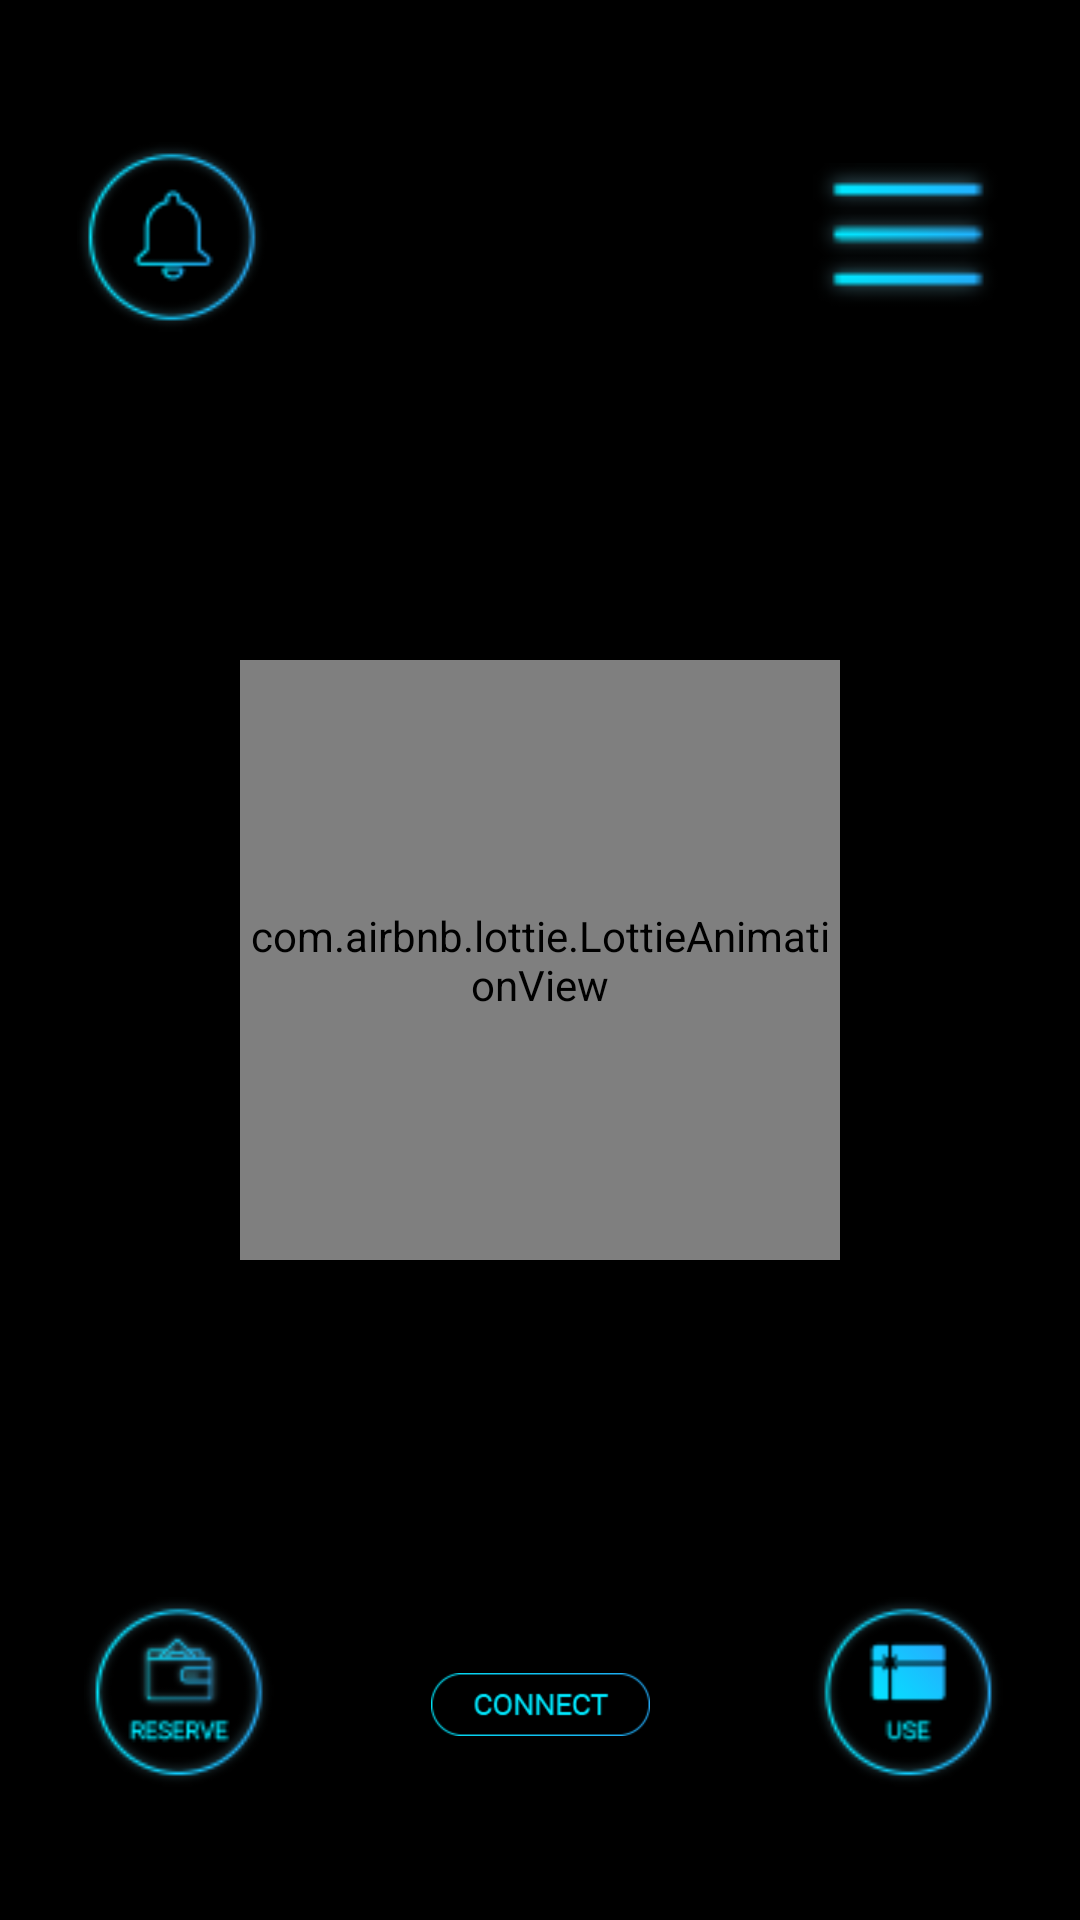

Where to tap for icons on this 1080 × 1920 app screen, as point (x, y):
hamburger: point (907, 233)
ring: point (171, 236)
